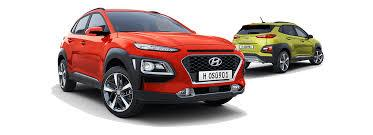hyundai: (208, 54, 222, 67)
